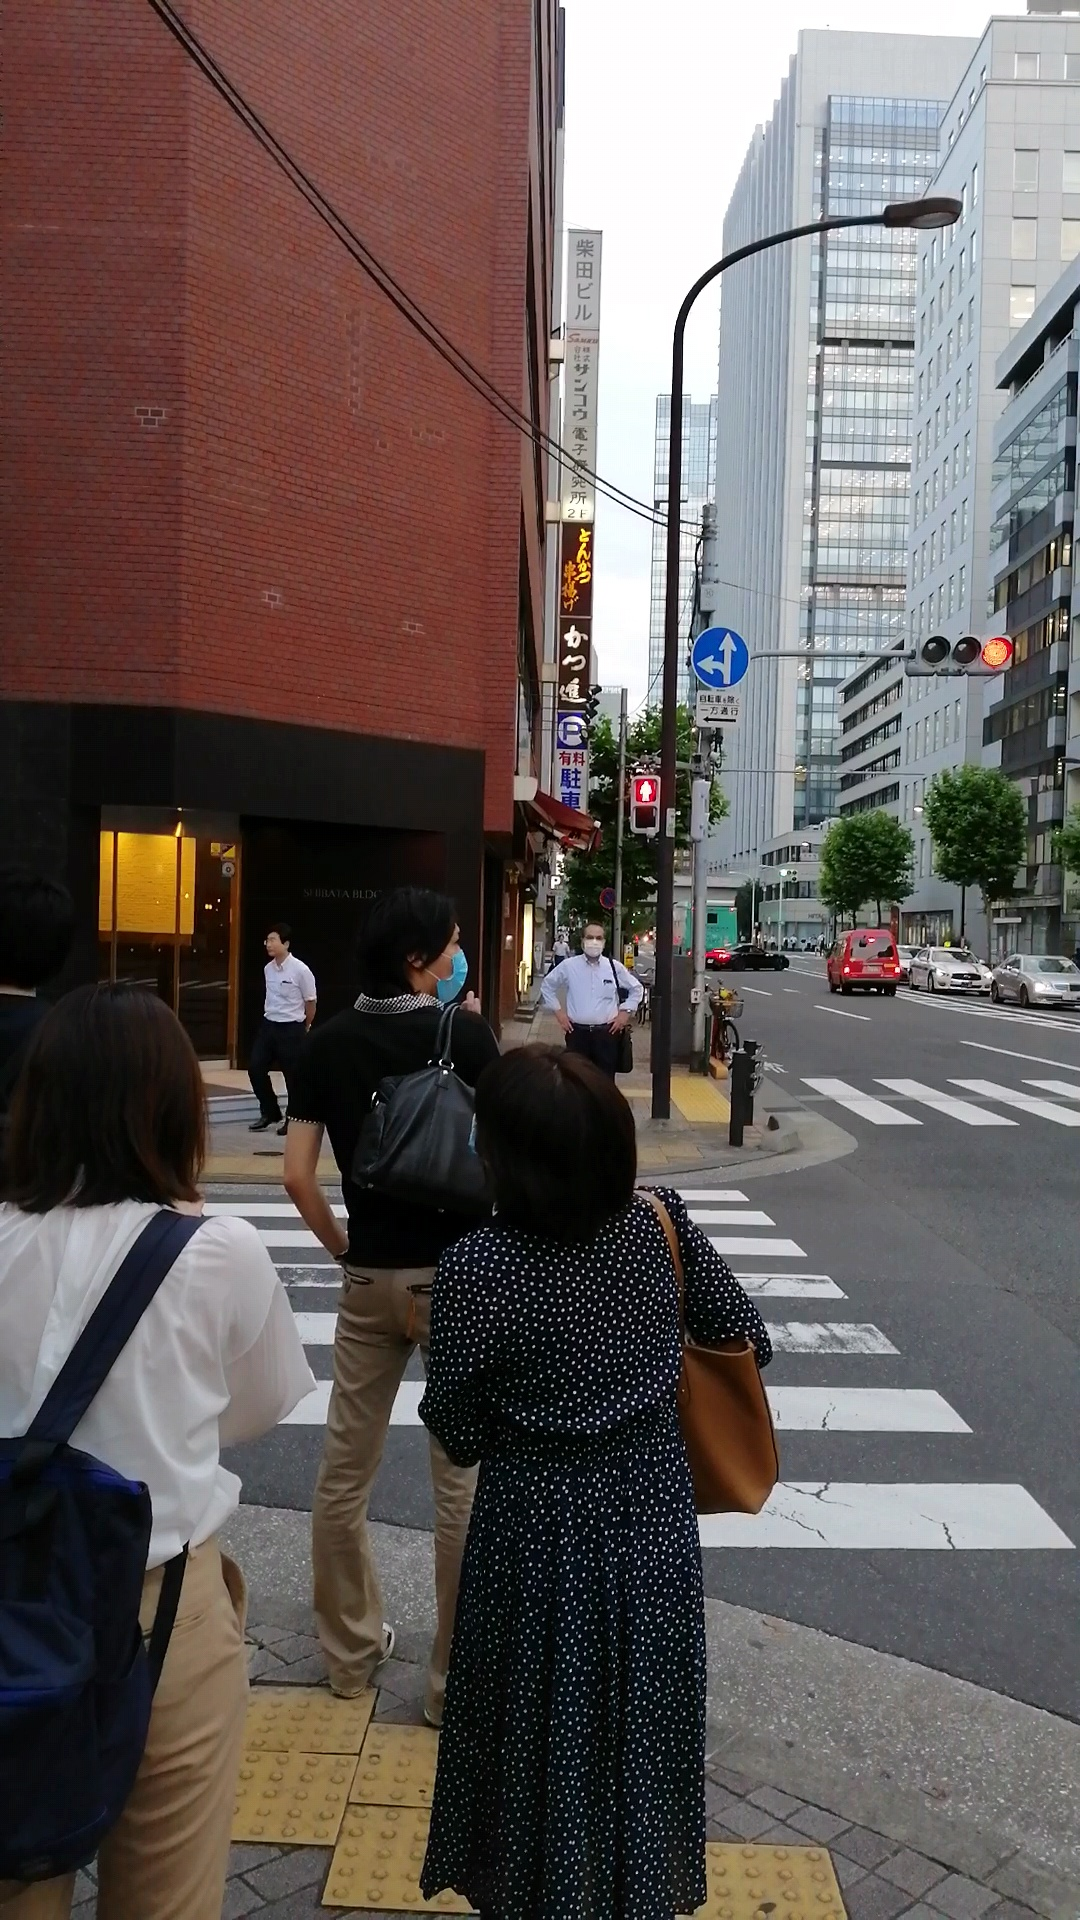red: (628, 771, 659, 835)
